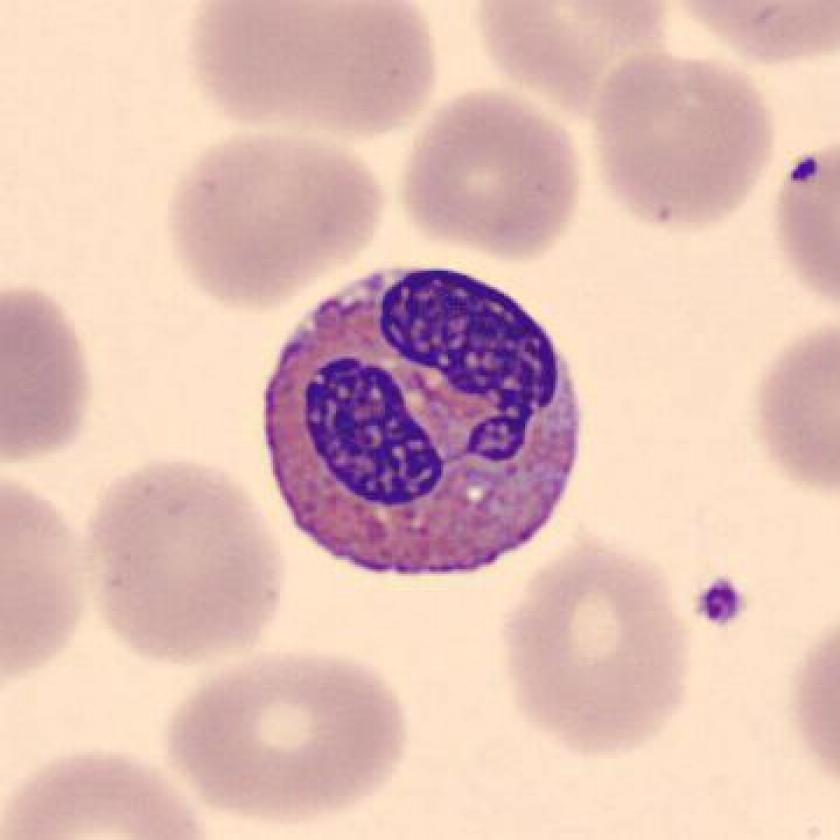eosinophil: (246, 249, 594, 596)
